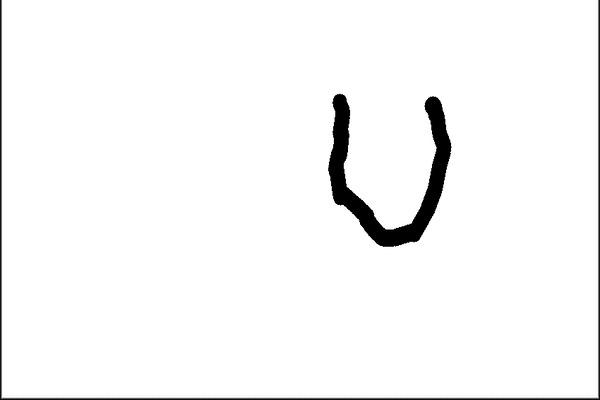U: (316, 78, 464, 251)
